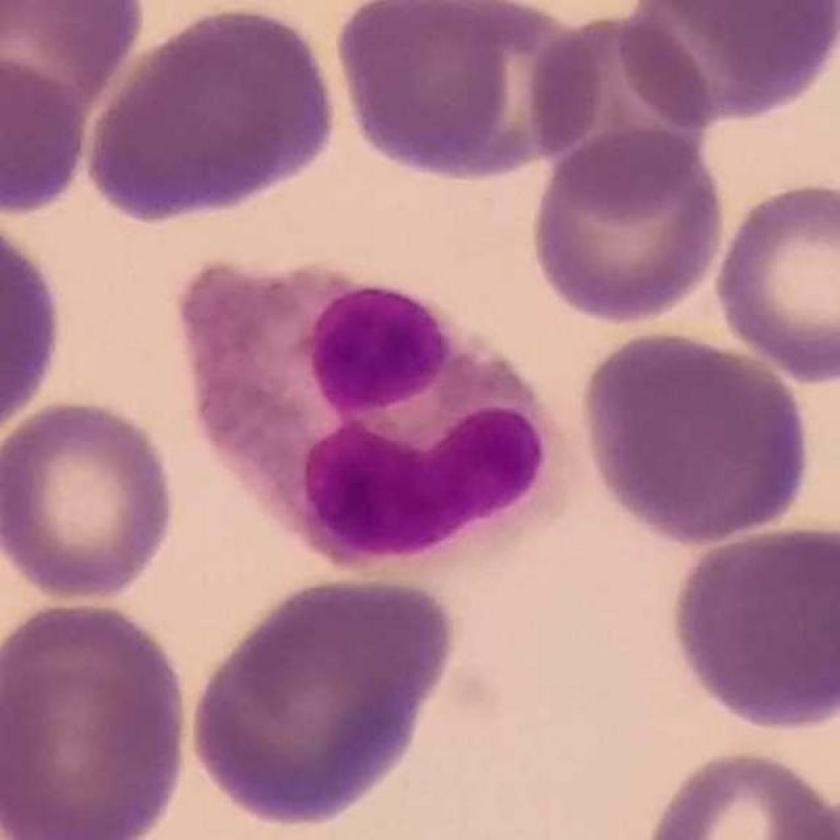eosinophil: (181, 257, 584, 593)
